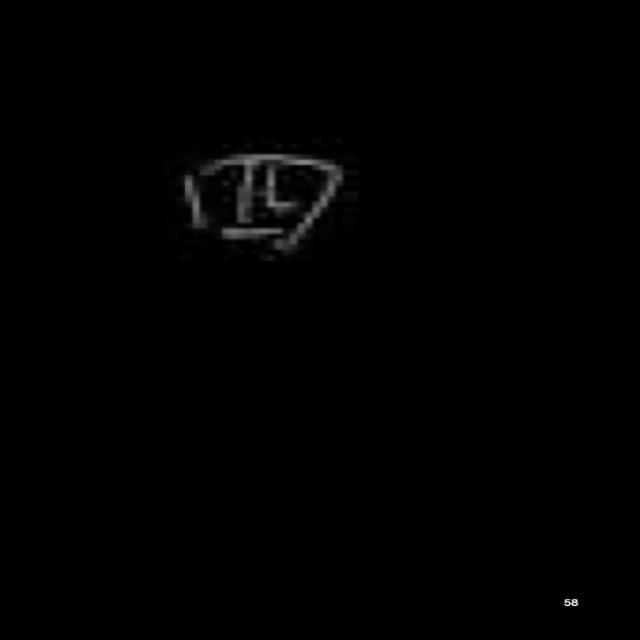4 -four-: (164, 141, 361, 264)
